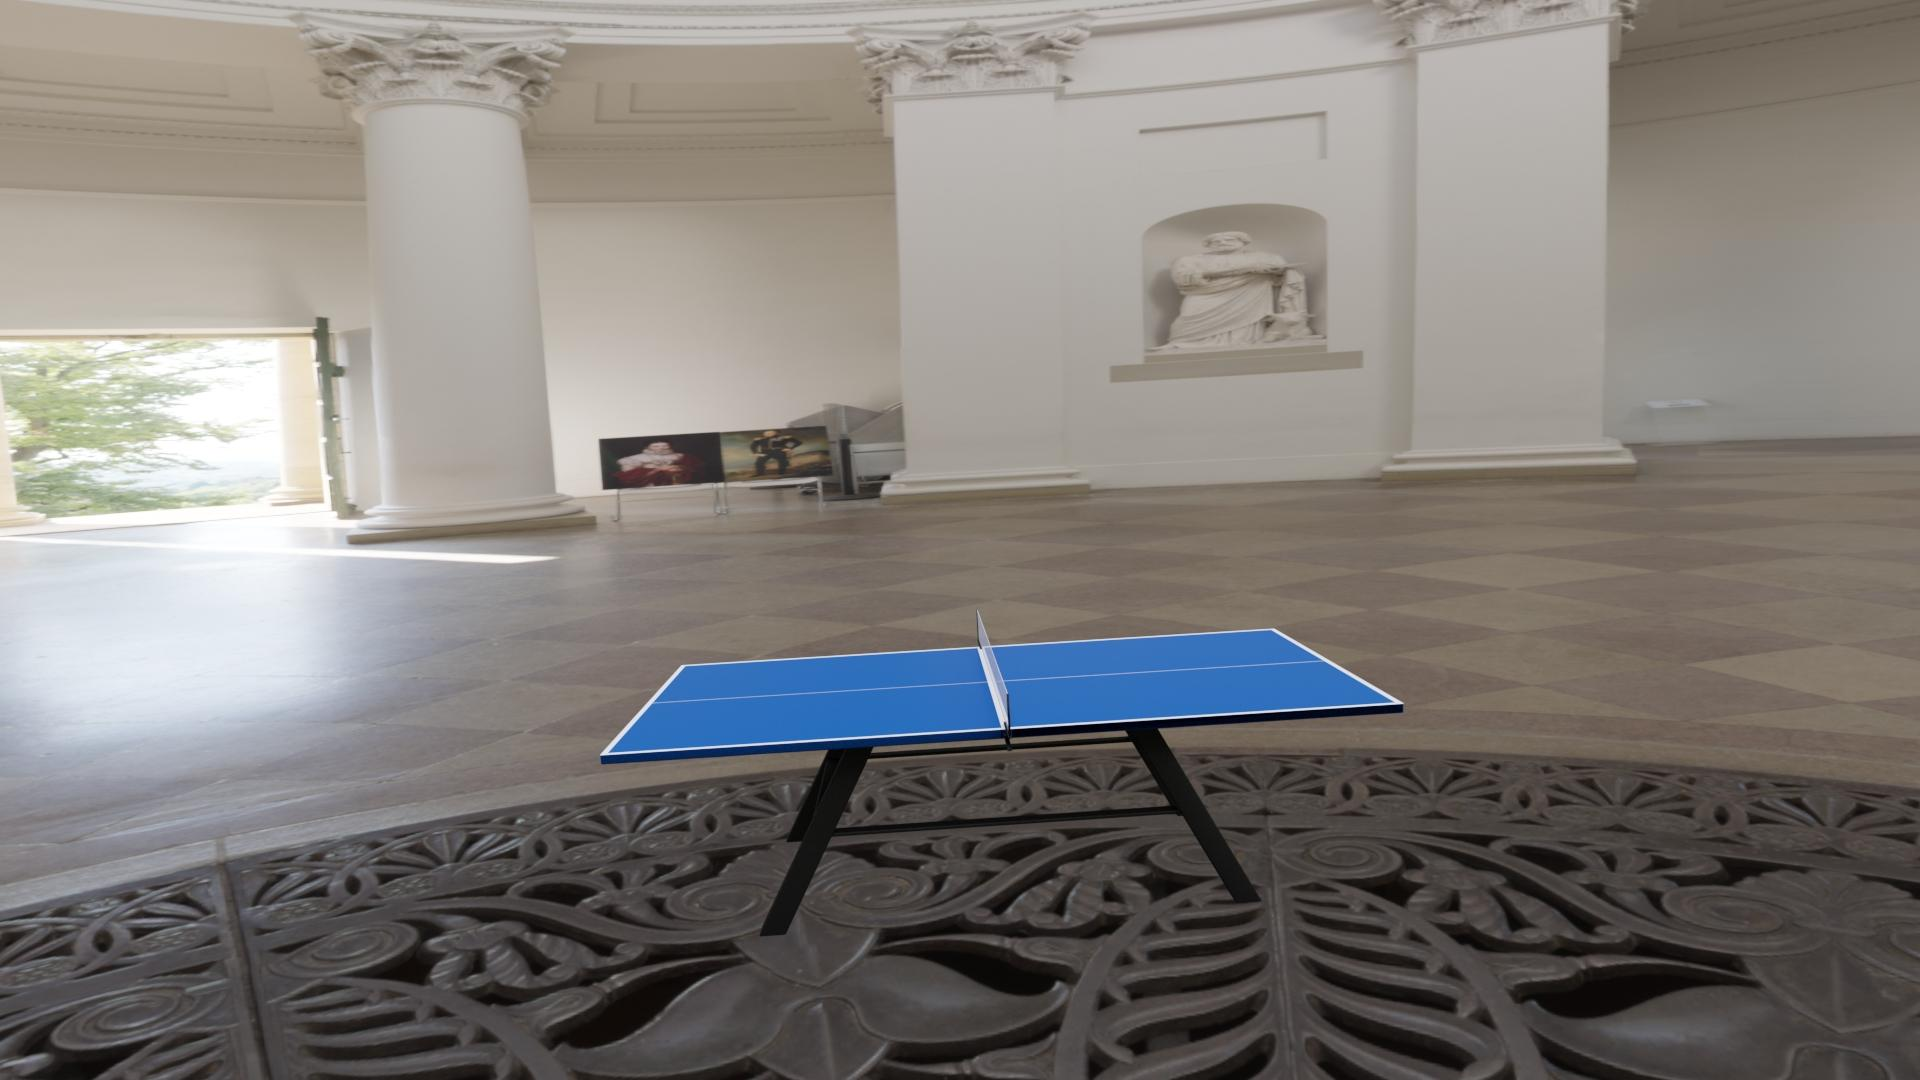table: (607, 630, 1396, 753)
